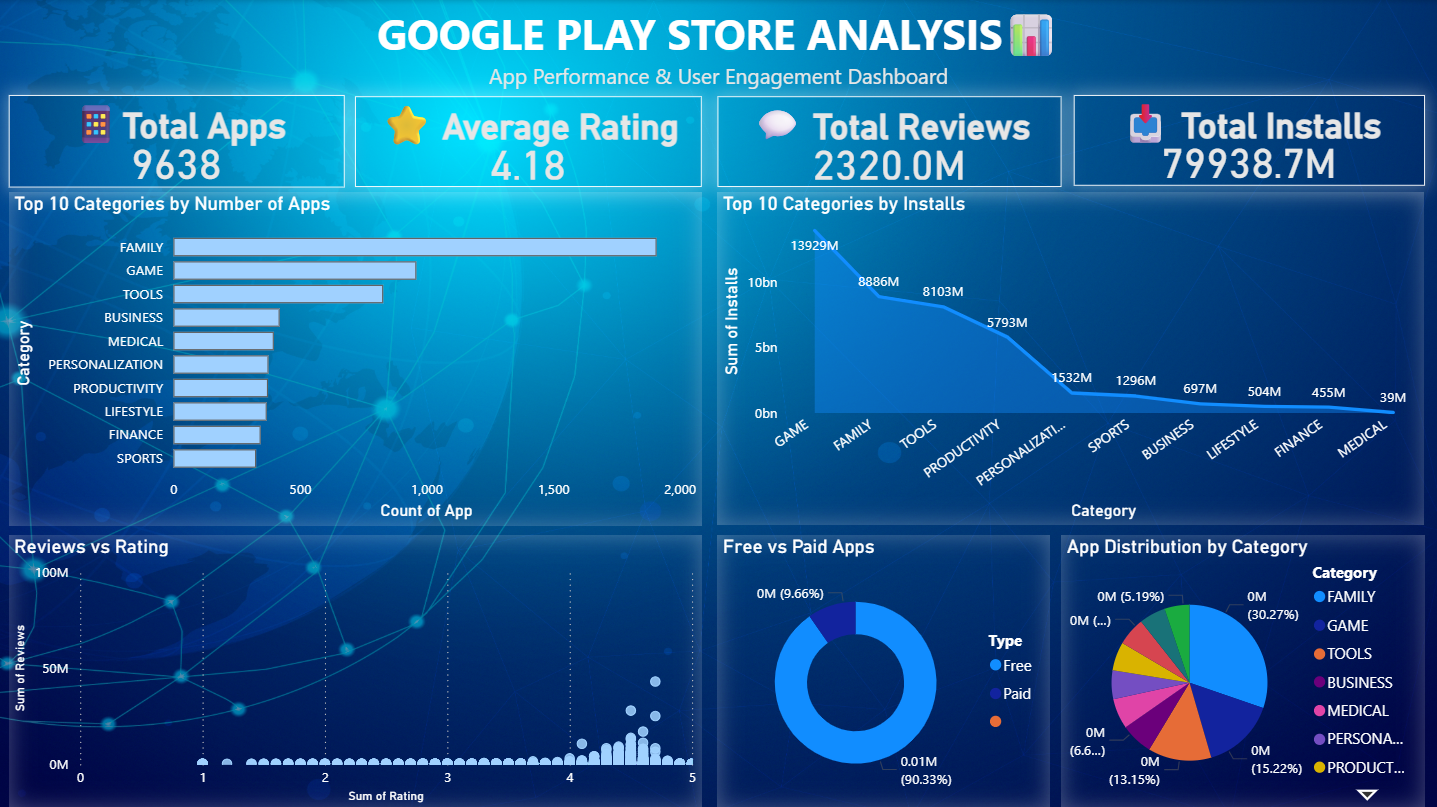

The page's visual inventory and layout, read from the dashboard file:
{"tool":"powerbi","page":{"name":"Page 1","canvas":[1280,720],"ordinal":0},"visuals":[{"type":"textbox","box":[0,0,1280,88.1],"z":0},{"type":"card","title":"📱Total Apps","fields":{"Values":["Count(google_playstore_cleaned.App)"]},"box":[7.2,84.5,299.2,82],"z":1000},{"type":"card","title":"⭐ Average Rating","fields":{"Values":["Avg(google_playstore_cleaned.Rating)"]},"box":[316.1,85.7,308.8,80.8],"z":2000},{"type":"card","title":"💬 Total Reviews","fields":{"Values":["Sum(google_playstore_cleaned.Reviews)"]},"box":[639.4,85.7,306.4,80.8],"z":3000},{"type":"card","title":"📥 Total Installs","fields":{"Values":["Sum(google_playstore_cleaned.Installs)"]},"box":[956.7,84.5,312.5,80.8],"z":4000},{"type":"clusteredBarChart","title":"Top 10 Categories by Number of Apps","fields":{"Category":["google_playstore_cleaned.Category"],"Y":["CountNonNull(google_playstore_cleaned.App)"]},"box":[7.2,171.3,617.7,296.8],"z":5000},{"type":"scatterChart","title":"Reviews vs Rating","fields":{"Category":["google_playstore_cleaned.App"],"X":["Sum(google_playstore_cleaned.Rating)"],"Y":["Sum(google_playstore_cleaned.Reviews)"]},"box":[7.2,476.5,617.7,243.7],"z":6000},{"type":"areaChart","title":"Top 10 Categories by Installs","fields":{"Category":["google_playstore_cleaned.Category"],"Y":["Sum(google_playstore_cleaned.Installs)"]},"box":[639.5,171.5,629.8,296.4],"z":7000},{"type":"donutChart","title":"Free vs Paid Apps","fields":{"Category":["google_playstore_cleaned.Type"],"Y":["CountNonNull(google_playstore_cleaned.App)"]},"box":[639.5,476.2,296.4,244.3],"z":8000},{"type":"donutChart","title":"Free vs Paid Apps","fields":{"Category":["google_playstore_cleaned.Type"],"Y":["CountNonNull(google_playstore_cleaned.App)"]},"box":[639.5,475.7,296.4,244.3],"z":9000},{"type":"pieChart","title":"App Distribution by Category","fields":{"Category":["google_playstore_cleaned.Category"],"Y":["CountNonNull(google_playstore_cleaned.App)"]},"box":[945.5,476.2,323.8,244.3],"z":9001}]}

Visuals, with their boxes in screenshot pixels (x1, y1, x2, y2), scaled from the page's 1280x720 canvas onto the 1437x807 screenshot:
textbox: (0, 0, 1436, 99)
"📱Total Apps" card: (8, 95, 344, 187)
"⭐ Average Rating" card: (355, 96, 702, 187)
"💬 Total Reviews" card: (718, 96, 1062, 187)
"📥 Total Installs" card: (1074, 95, 1425, 185)
"Top 10 Categories by Number of Apps" clusteredBarChart: (8, 192, 702, 525)
"Reviews vs Rating" scatterChart: (8, 534, 702, 806)
"Top 10 Categories by Installs" areaChart: (718, 192, 1425, 524)
"Free vs Paid Apps" donutChart: (718, 534, 1051, 806)
"Free vs Paid Apps" donutChart: (718, 533, 1051, 806)
"App Distribution by Category" pieChart: (1061, 534, 1425, 806)
